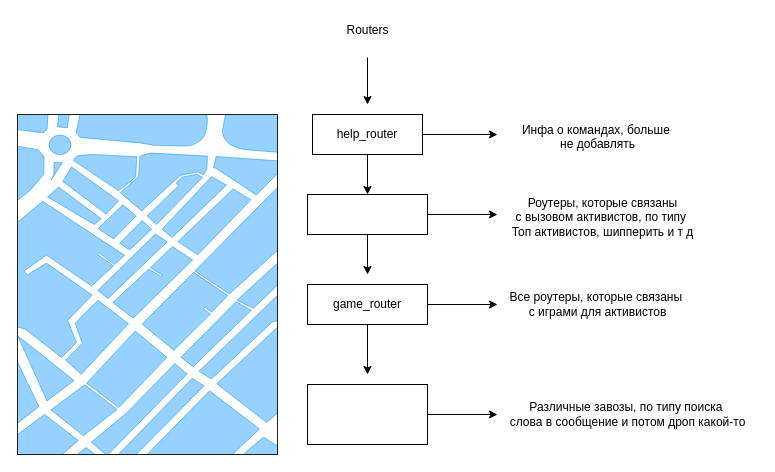
This 775x472 diagram has some shape labels left out. The centre of each missing label's shape, as x and y in pixels:
"people_router" goes at [367,214].
"zavoz_router" goes at [367,414].
